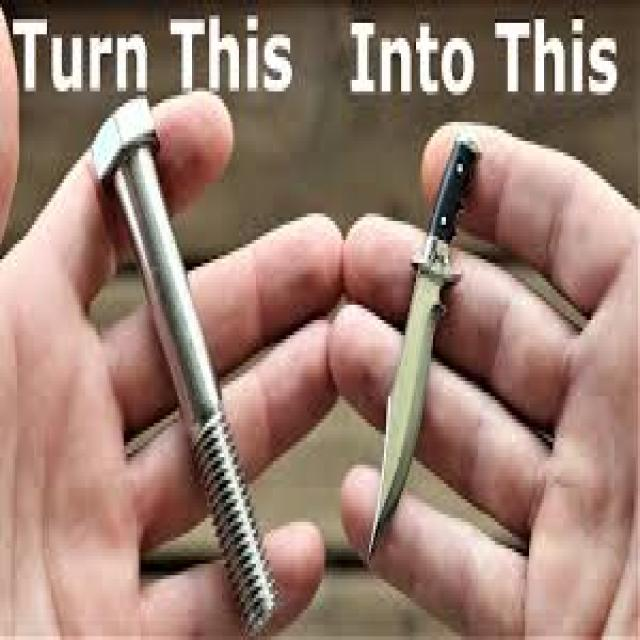knives: (373, 112, 488, 588)
